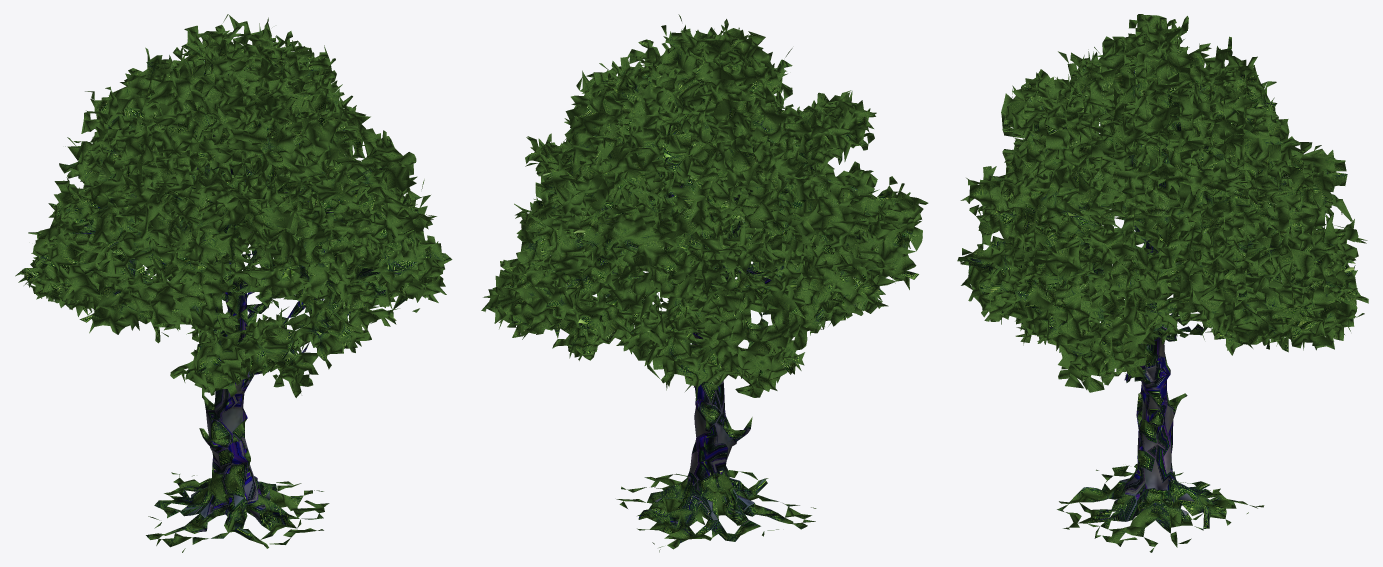
The model's file is arvore_SUBSTITUIDO_2026-11-07.glb.
3 renders of one model, left to right at view 1: azimuth 30°, elevation 25°; view 2: azimuth 150°, elevation 25°; view 3: azimuth 270°, elevation 25°, orthographic.
Visible parts, largest first — view 1: mesh_node; view 2: mesh_node; view 3: mesh_node.
Boxes of the visible parts, <box> form: mesh_node: <box>15,14,452,552</box>; mesh_node: <box>481,14,928,552</box>; mesh_node: <box>957,14,1368,552</box>.
Bounding box in the file's own units: 1.53 × 1.9 × 1.45.
1 material, 1 textured.
